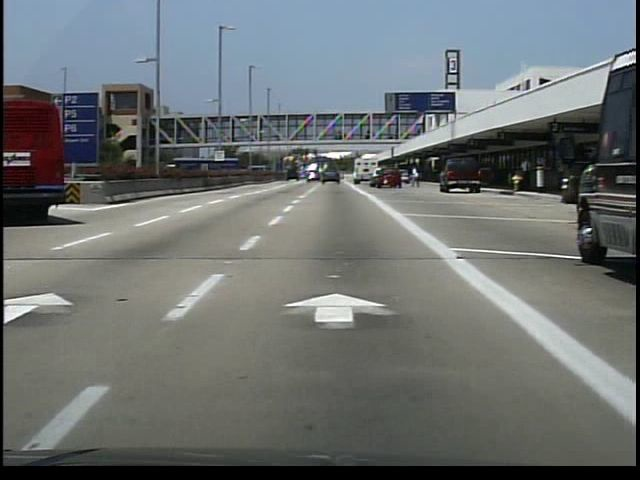person: (517, 157, 536, 198), (410, 168, 424, 190)
